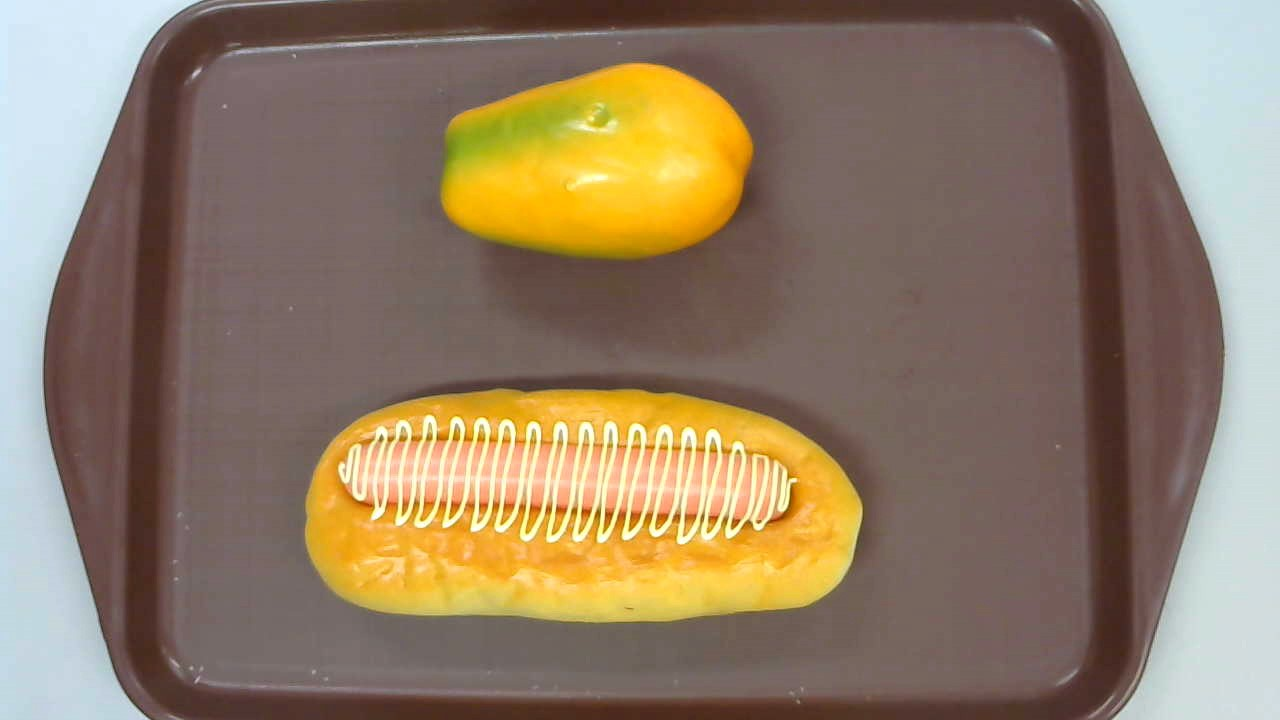hot dog: (303, 386, 863, 624)
papya: (439, 63, 755, 260)
